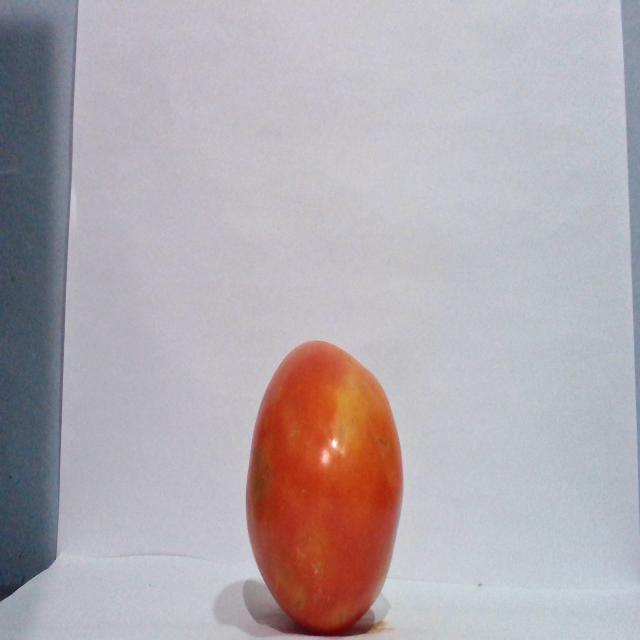Red: (244, 338, 404, 634)
